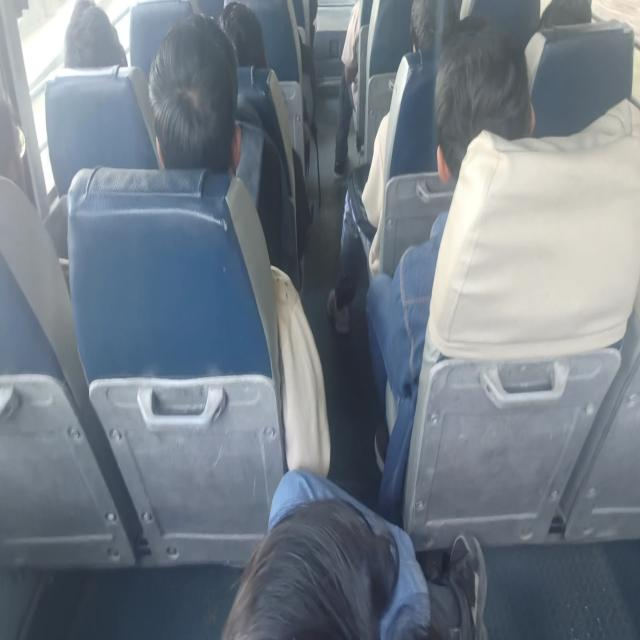person: (228, 504, 425, 640), (440, 25, 530, 200), (153, 47, 229, 170), (53, 0, 123, 72), (210, 0, 271, 62), (396, 0, 454, 62), (0, 91, 32, 191), (536, 0, 602, 41)
